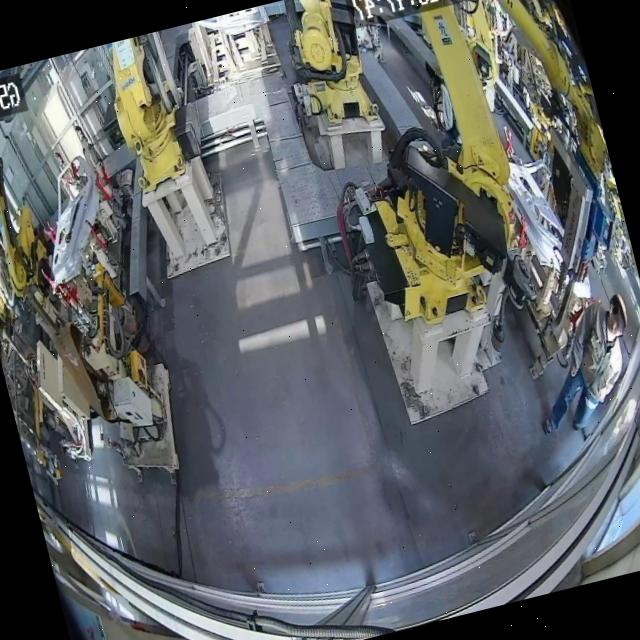Person: (515, 290, 640, 450), (0, 252, 16, 318), (500, 124, 518, 159), (0, 193, 10, 253)
